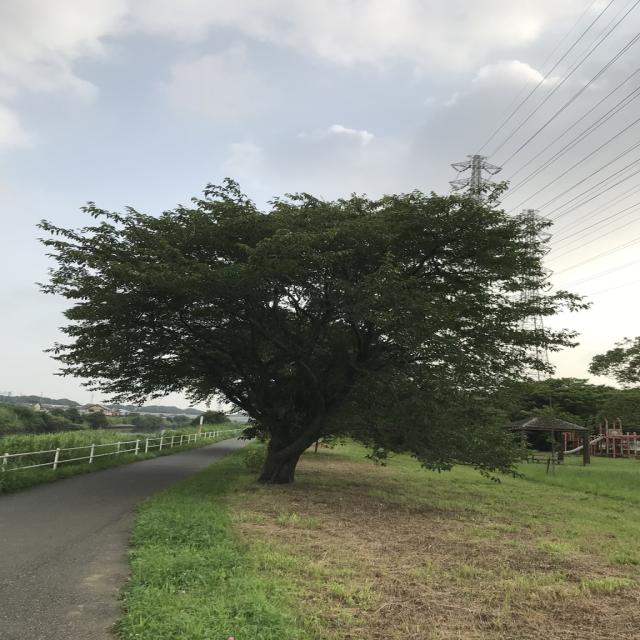sakura: (34, 177, 595, 486)
